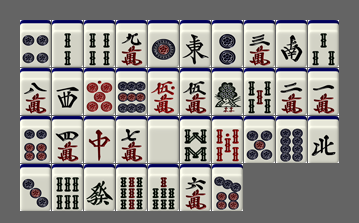0m: (148, 68, 179, 115)
0p: (84, 68, 115, 115)
0s: (212, 116, 243, 163)
1m: (308, 68, 339, 115)
1p: (148, 20, 179, 67)
1s: (212, 68, 243, 115)
1z: (180, 20, 211, 67)
2m: (276, 68, 307, 115)
2p: (212, 20, 243, 67)
2s: (52, 20, 83, 67)
2z: (276, 20, 307, 67)
3m: (244, 20, 275, 67)
3p: (20, 164, 51, 211)
3s: (308, 20, 339, 67)
3z: (52, 68, 83, 115)
4m: (52, 116, 83, 163)
4p: (20, 20, 51, 67)
4s: (84, 20, 115, 67)
4z: (308, 116, 339, 163)
5m: (180, 68, 211, 115)
5p: (244, 116, 275, 163)
5s: (244, 68, 275, 115)
5z: (148, 116, 179, 163)
6m: (180, 164, 211, 211)
6p: (20, 116, 51, 163)
6s: (52, 164, 83, 211)
6z: (84, 164, 115, 211)
7m: (116, 116, 147, 163)
7p: (212, 164, 243, 211)
7s: (148, 164, 179, 211)
7z: (84, 116, 115, 163)
8m: (20, 68, 51, 115)
8p: (276, 116, 307, 163)
8s: (180, 116, 211, 163)
9m: (116, 20, 147, 67)
9p: (116, 68, 147, 115)
9s: (116, 164, 147, 211)
